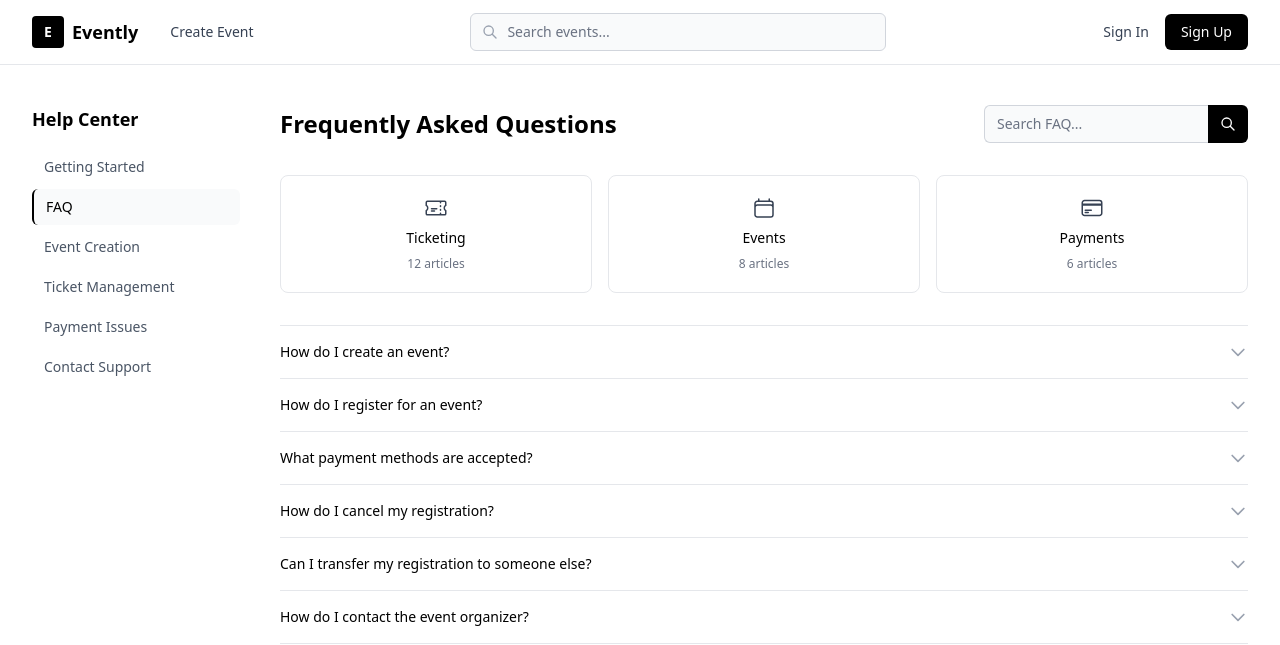
it: HelpPage › clears category filter when same tab is clicked again
Click the text "Payments" at point(1092, 238), box [1060, 228, 1124, 248]
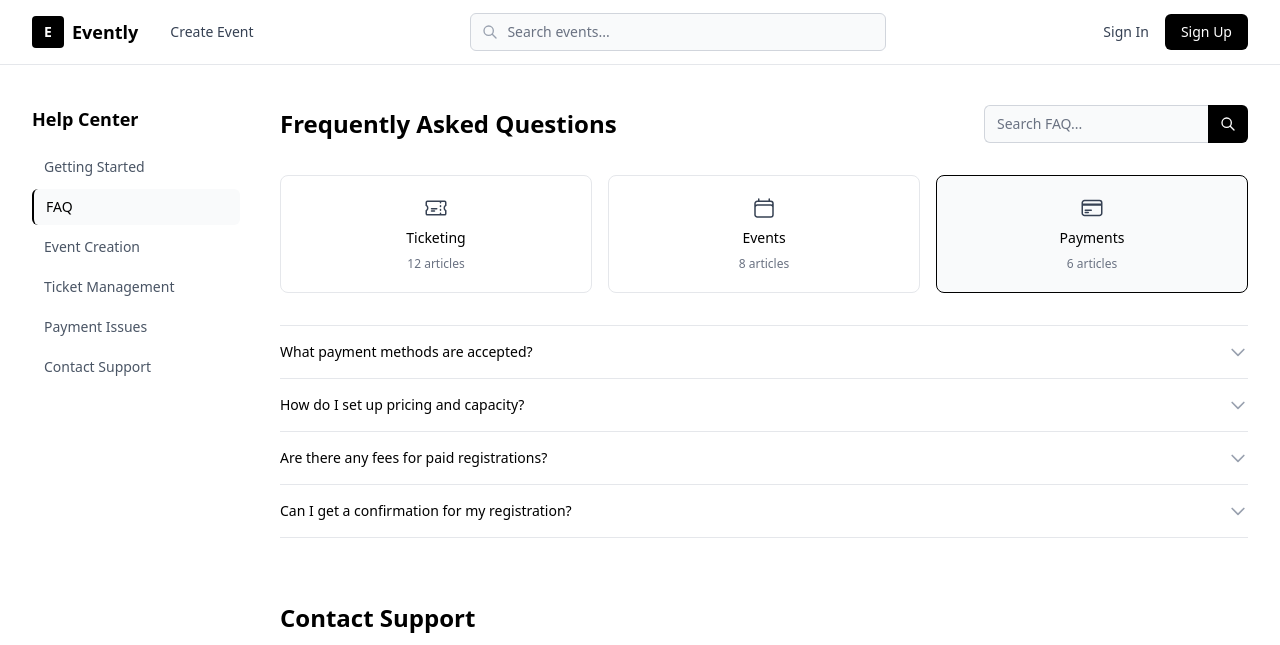
expect the button "How do I create an event?" is gone: met
Click the text "Payments" at point(1092, 238), box [1060, 228, 1124, 248]
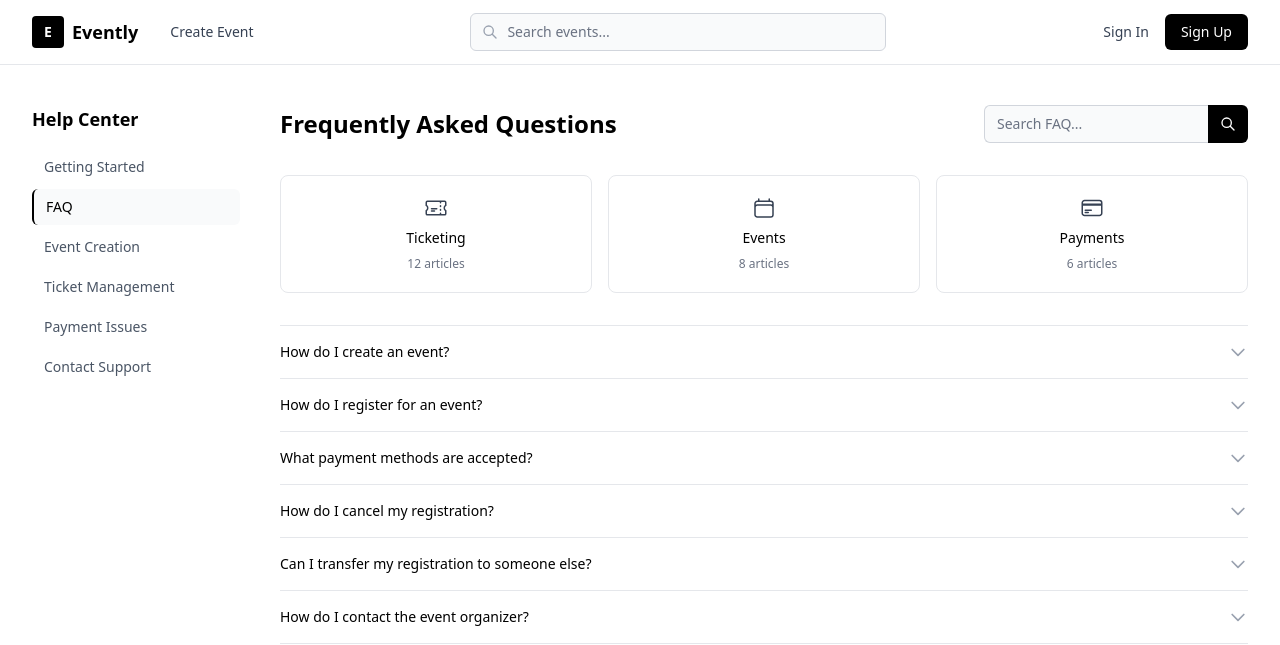
expect the text "How do I create an event?" is shown: met, box [280, 342, 449, 362]
